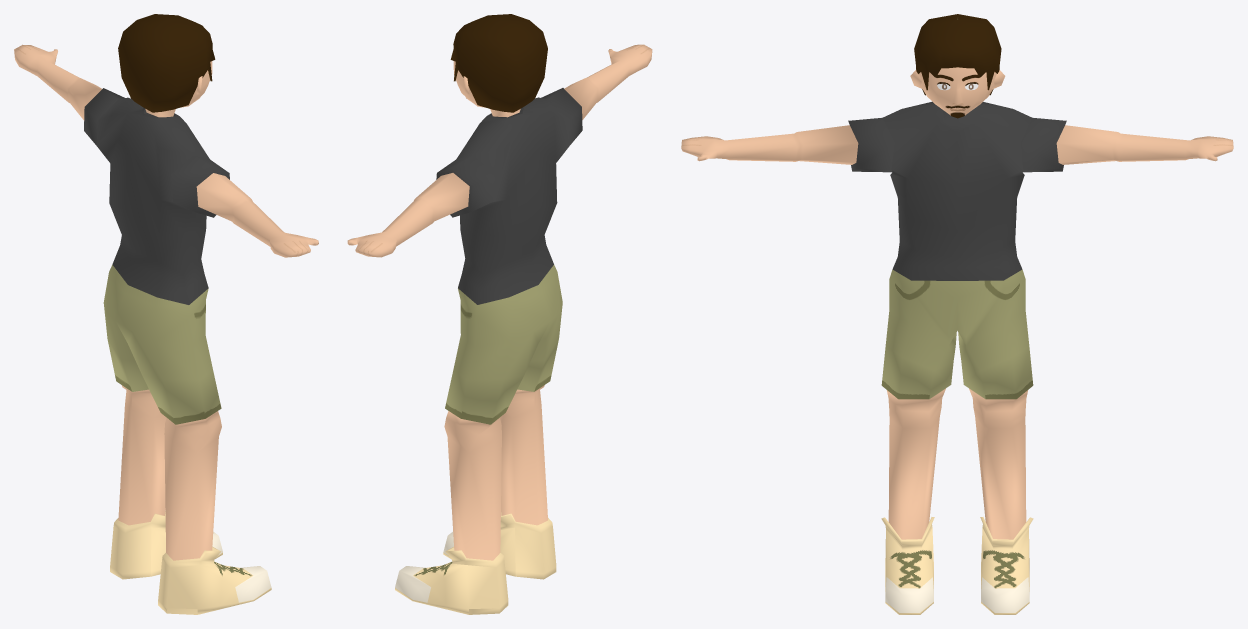
Rendered from persona.glb.
3 renders of one model, left to right at view 1: azimuth 30°, elevation 25°; view 2: azimuth 150°, elevation 25°; view 3: azimuth 270°, elevation 25°, orthographic.
Parts seen in each view (by area): view 1: body, hair, head; view 2: body, hair, head; view 3: body, hair, head.
Boxes of the visible parts, <box> form: body: <box>14,44,318,614</box>; hair: <box>118,14,215,112</box>; head: <box>145,61,212,117</box>; body: <box>347,44,652,614</box>; hair: <box>450,14,547,112</box>; head: <box>453,61,520,117</box>; body: <box>681,101,1233,614</box>; hair: <box>914,14,1001,95</box>; head: <box>919,67,996,118</box>.
Size of the model in its own units: 1.19 by 5.1 by 4.56.
1 material, 1 textured.
